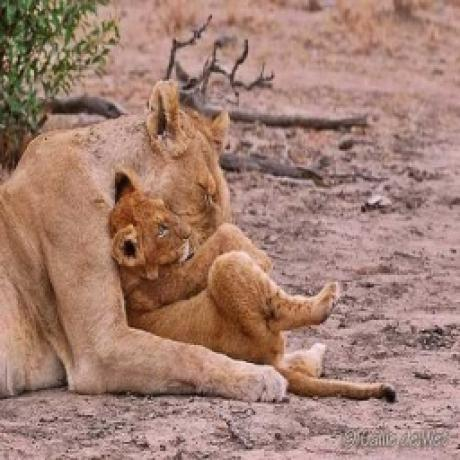Lion: (0, 79, 291, 403), (109, 170, 402, 403)
